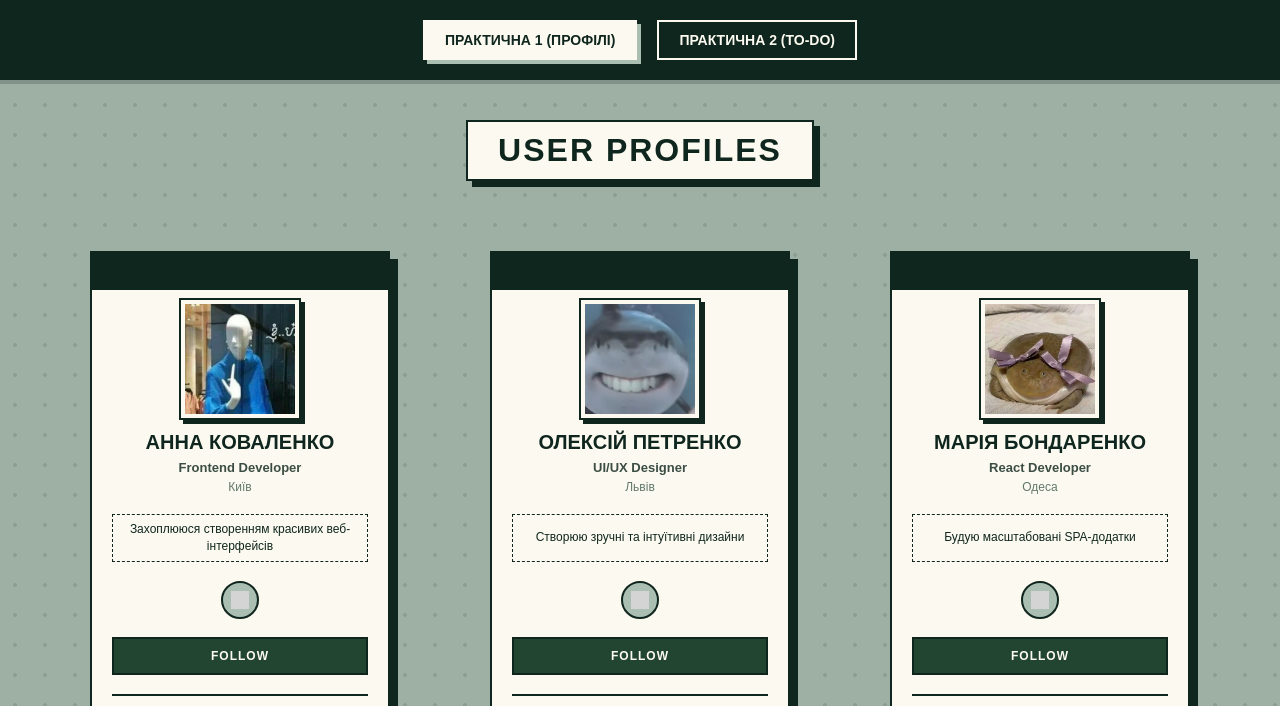
Test: можна додати нове завдання у To-Do список
The image size is (1280, 706).
Click the button "Практична 2 (To-Do)" at (757, 40), box [657,20,857,60]
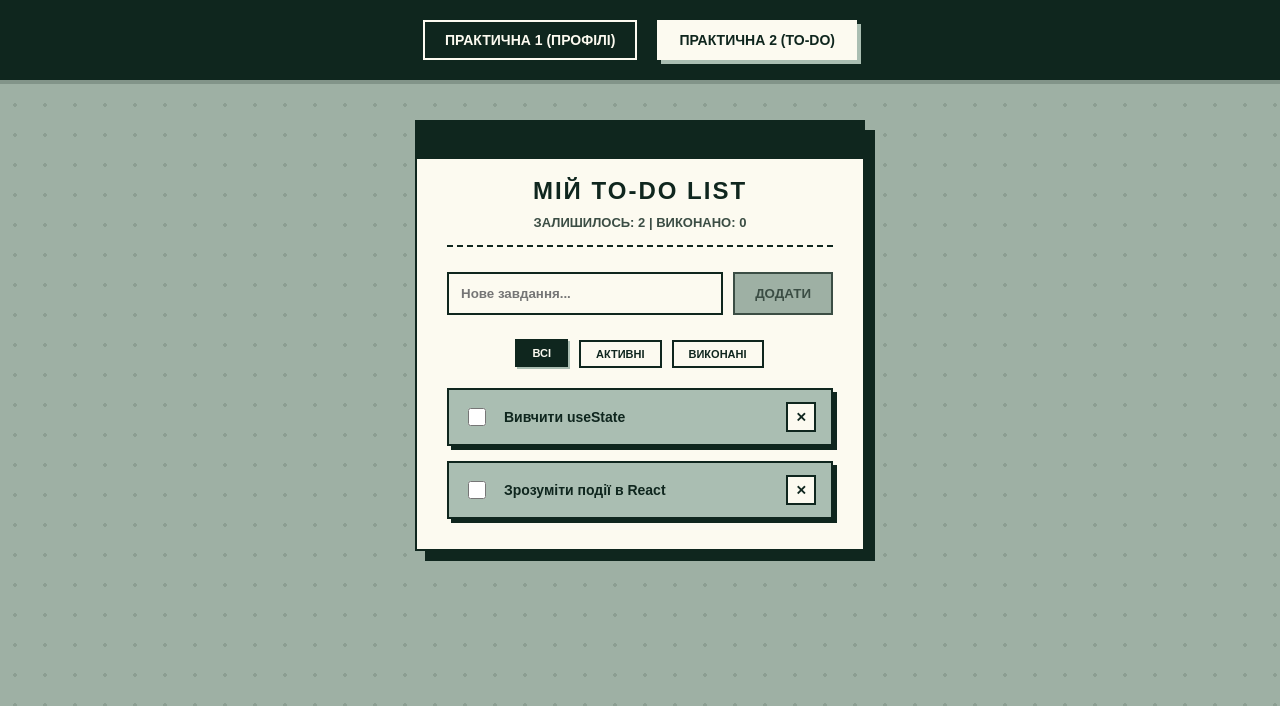
Type "Нове тестове завдання" into the field with placeholder "Нове завдання..." at (585, 294), box [447,272,723,315]
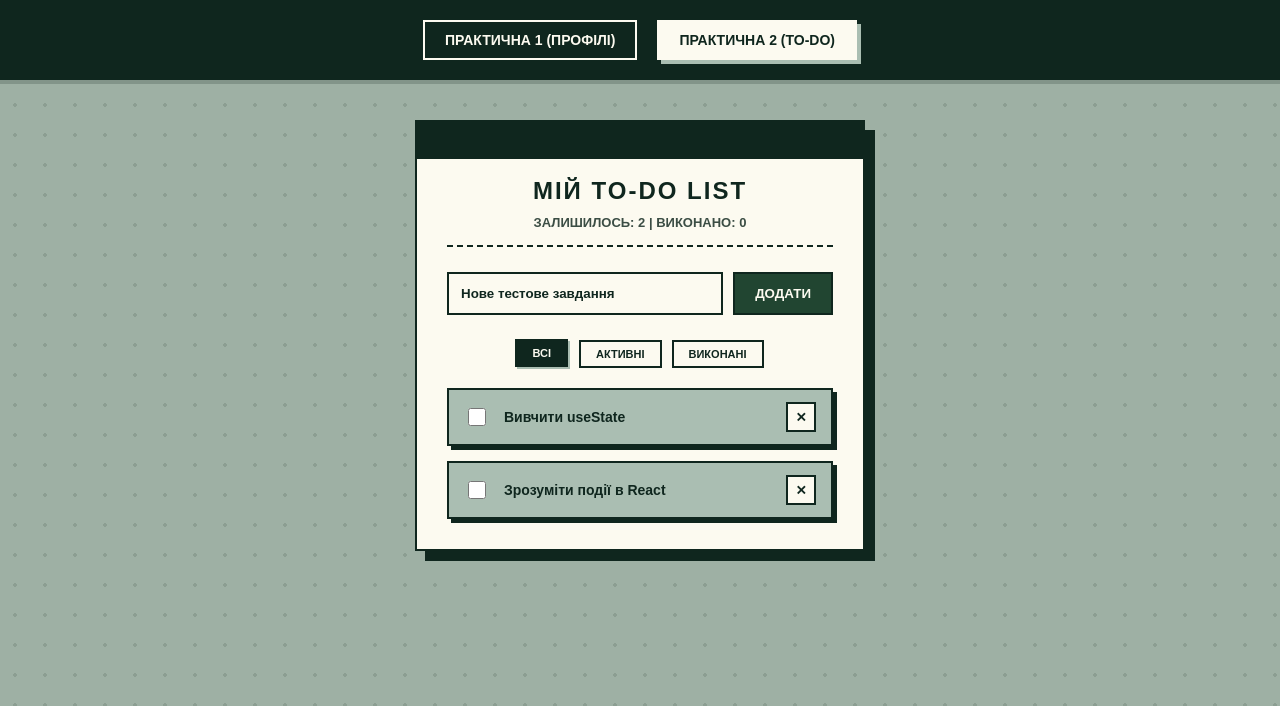
Click the button "Додати" at (783, 294), box [733,272,833,315]
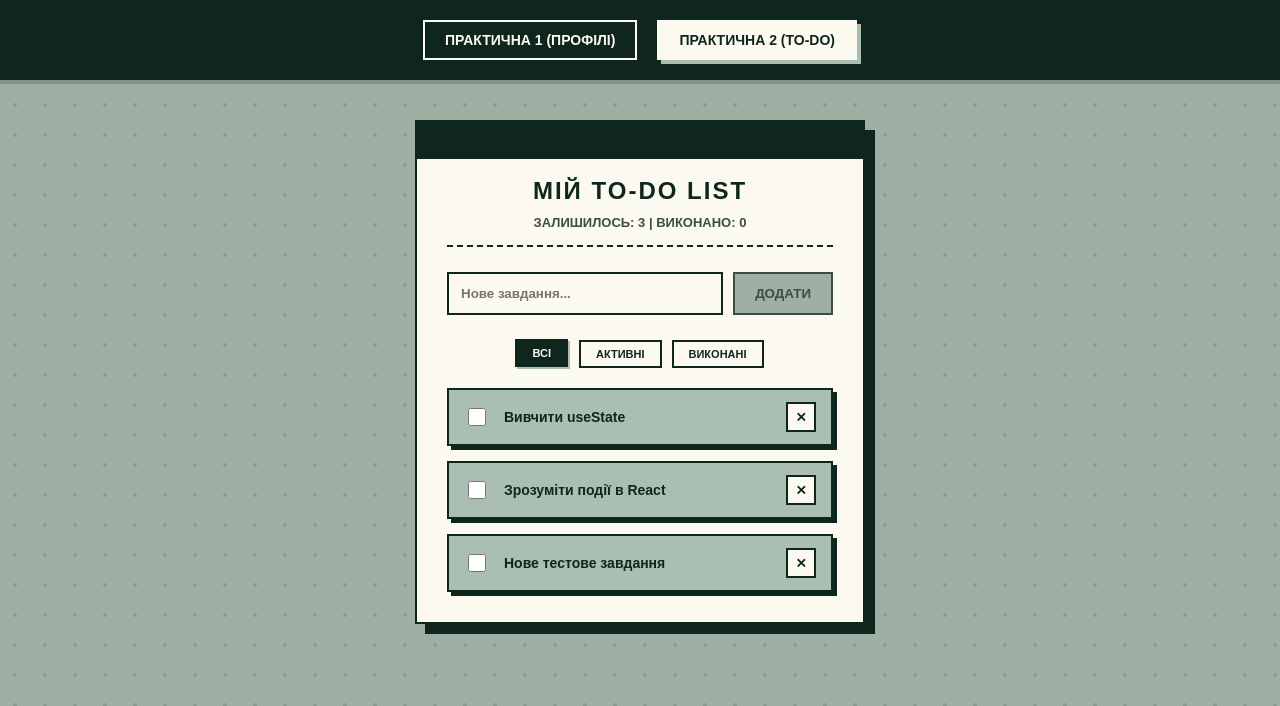
Expected: the text "Нове тестове завдання" is shown, [504,555,665,571]
